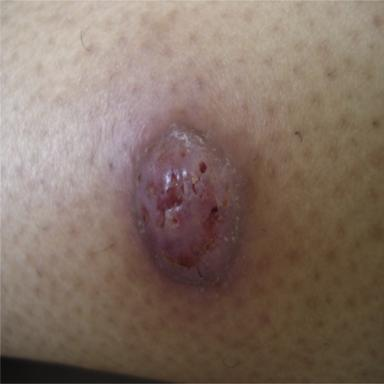Leishmanios: (134, 124, 243, 284)
